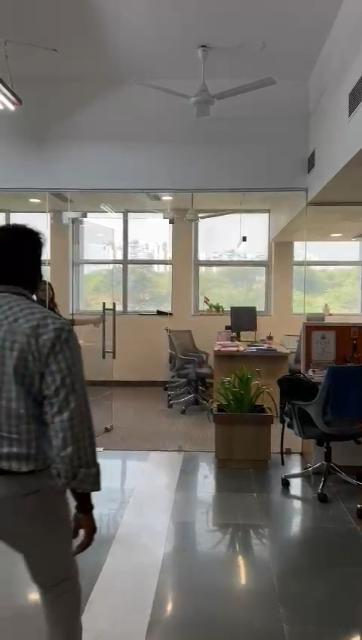floor: (84, 390, 362, 640)
moving-obj: (0, 208, 101, 640)
object: (280, 362, 362, 506), (210, 373, 278, 471), (162, 329, 210, 409), (227, 305, 265, 347)
wall: (271, 195, 295, 332), (118, 314, 164, 380), (170, 224, 194, 328), (49, 215, 69, 291)
